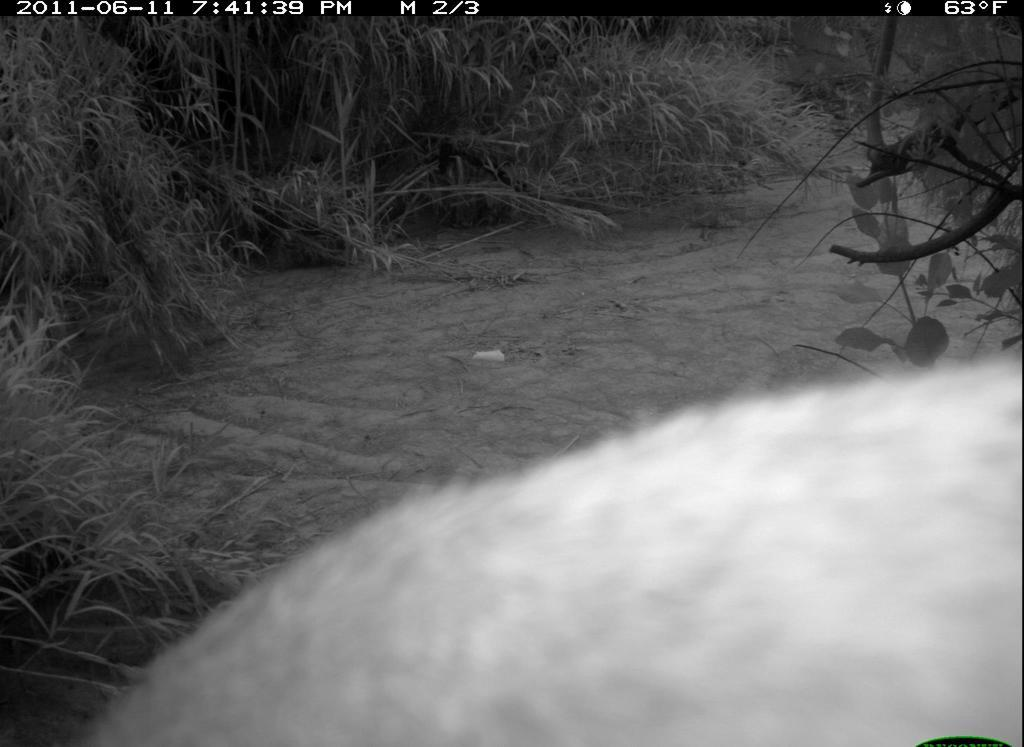bobcat: (95, 355, 1024, 743)
